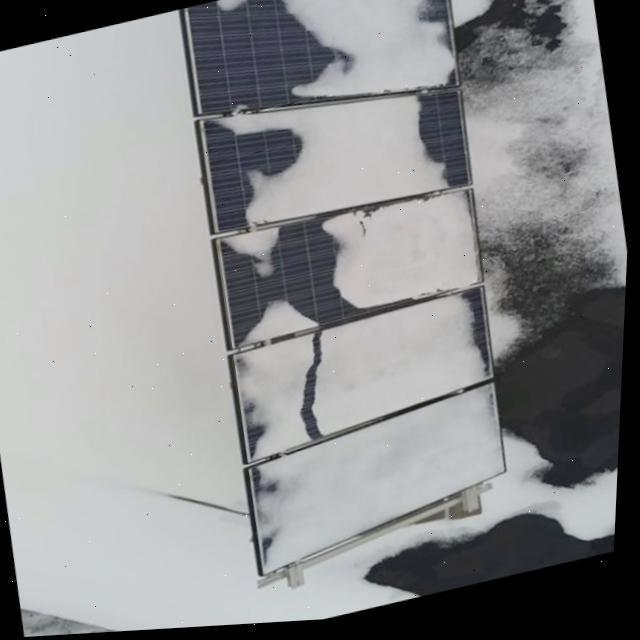Anomaly Solar Panel: (183, 0, 507, 578)
Snow: (252, 389, 511, 577), (213, 102, 453, 229), (313, 299, 489, 444), (321, 198, 479, 315), (281, 0, 454, 102), (236, 340, 319, 466), (239, 302, 321, 351), (219, 232, 282, 284), (214, 2, 245, 14)
